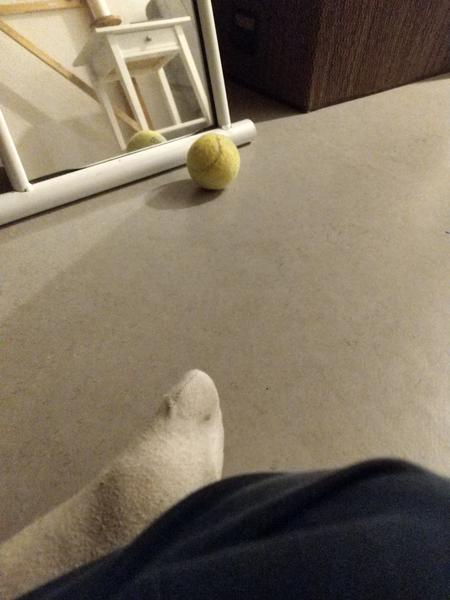Tennisball: (183, 128, 242, 193)
